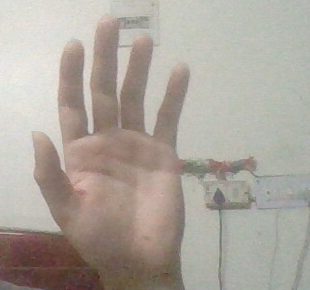move: (32, 12, 192, 290)
